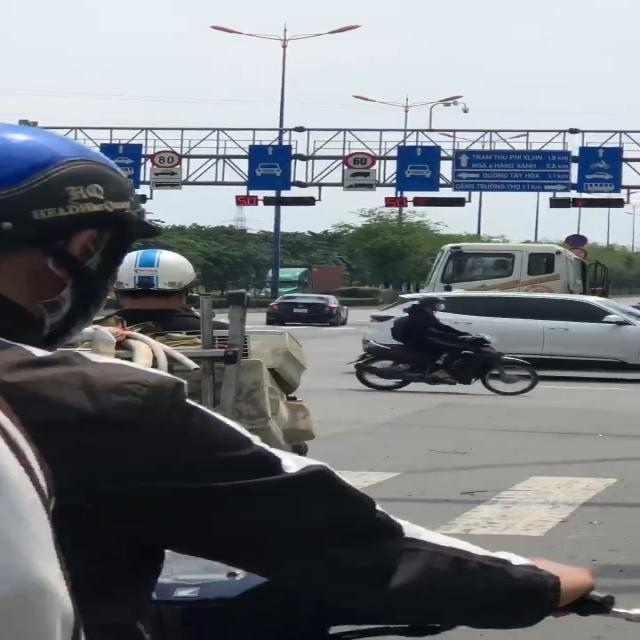Bien bao toc do toi da cho phep: (145, 146, 183, 169), (338, 150, 379, 171)
